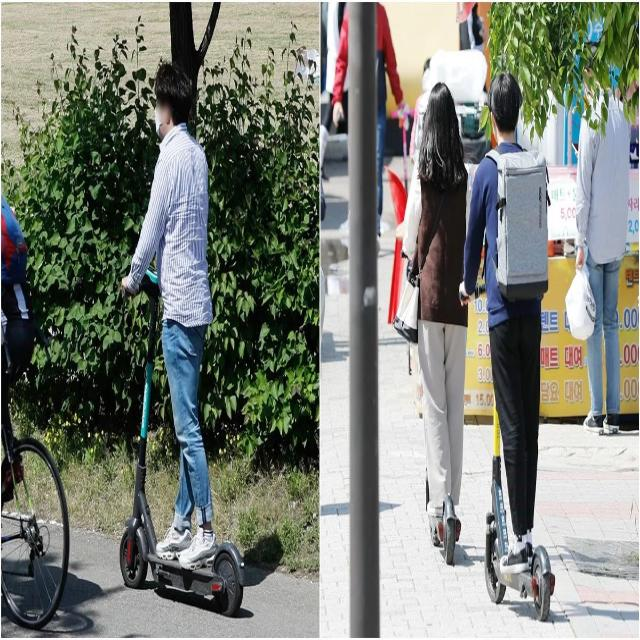non-helmet: (118, 54, 248, 628), (457, 67, 557, 626), (388, 78, 474, 571)
